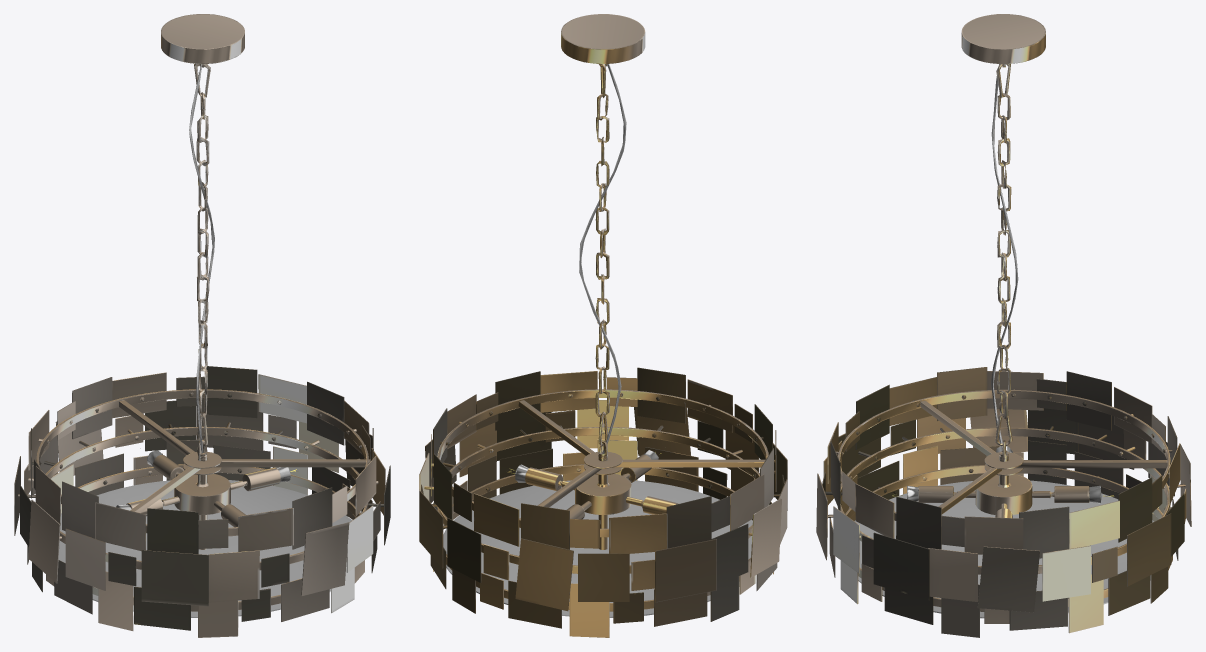
Rendered from raw_model.obj.
3 renders of one model, left to right at view 1: azimuth 30°, elevation 25°; view 2: azimuth 150°, elevation 25°; view 3: azimuth 270°, elevation 25°, orthographic.
Parts seen in each view (by area): view 1: solid_001, solid_004, solid_005, glass_001, solid_003; view 2: solid_001, solid_004, solid_005, glass_001, solid_003; view 3: solid_001, solid_004, solid_005, glass_001, solid_003.
Boxes of the visible parts, bbox=[...] form: solid_001: bbox=[24, 14, 385, 637]; solid_004: bbox=[20, 366, 390, 630]; solid_005: bbox=[14, 376, 380, 621]; glass_001: bbox=[58, 480, 351, 617]; solid_003: bbox=[189, 64, 214, 453]; solid_001: bbox=[419, 14, 781, 637]; solid_004: bbox=[421, 367, 784, 628]; solid_005: bbox=[419, 377, 787, 626]; glass_001: bbox=[443, 480, 752, 617]; solid_003: bbox=[579, 64, 626, 453]; solid_001: bbox=[823, 14, 1186, 633]; solid_004: bbox=[822, 367, 1184, 630]; solid_005: bbox=[816, 377, 1191, 637]; glass_001: bbox=[854, 480, 1153, 618]; solid_003: bbox=[991, 64, 1018, 450].
Bounding box in the file's own units: 0.5183 × 0.8222 × 0.5231.
Materials: 1 (1 with a texture image).
